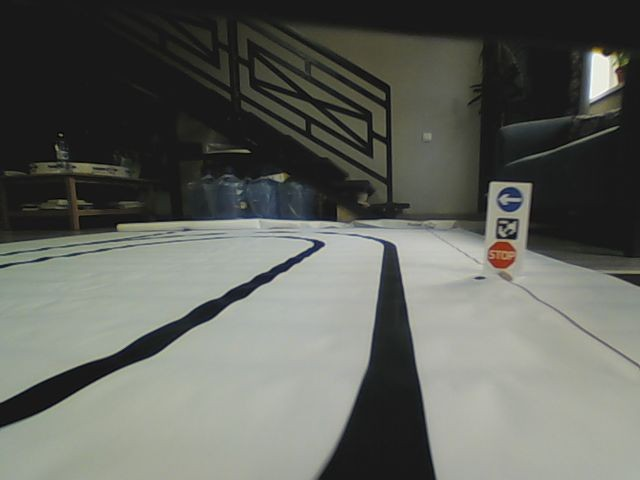Stop: (484, 241, 517, 270)
